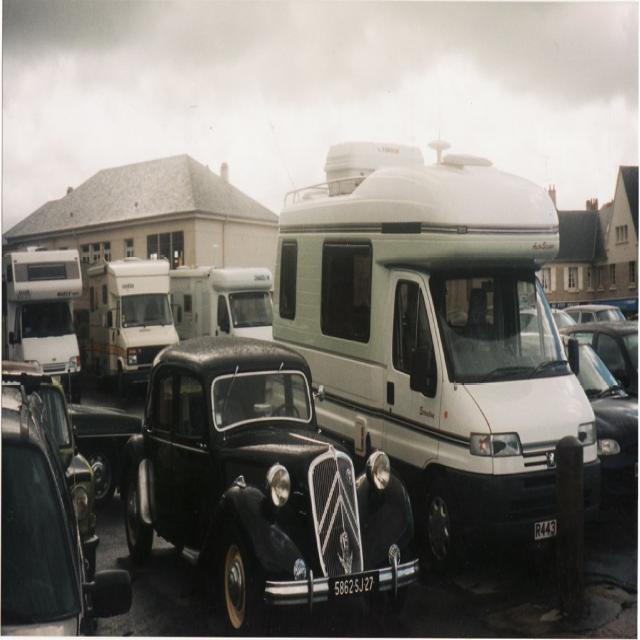car: (117, 328, 419, 638)
